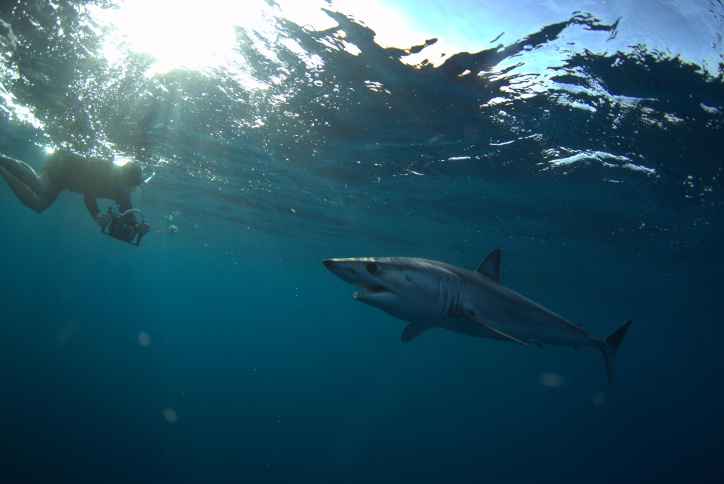Mako: (315, 237, 634, 392)
